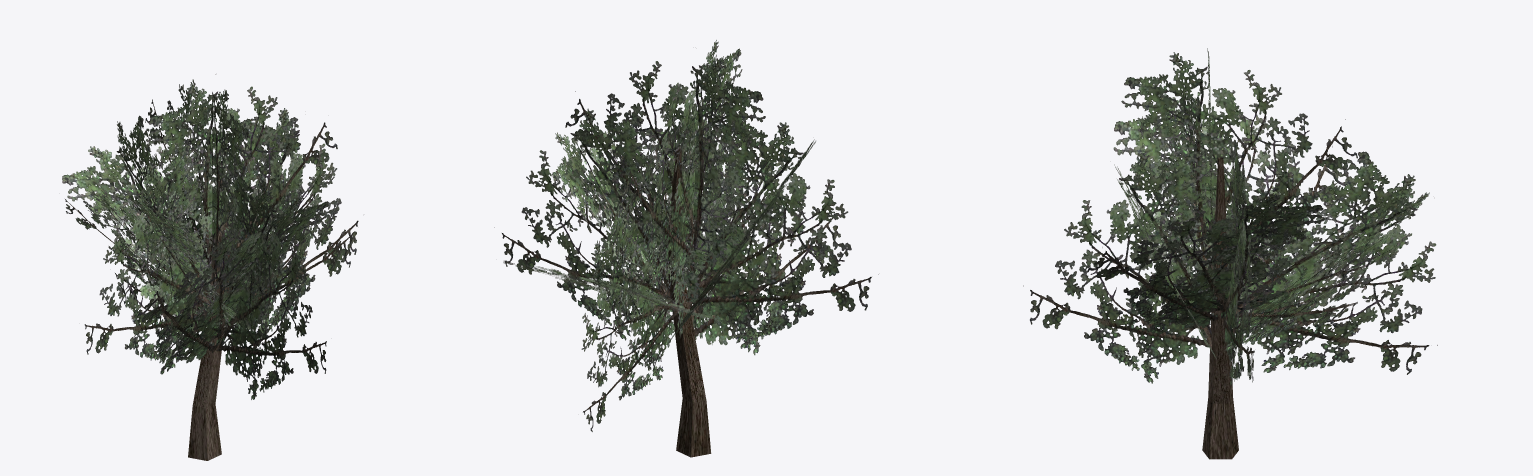
The model's file is mtns_shrb_greenleaf_a1_l0.fbx.
The picture shows the model from 3 angles, left to right: view 1: azimuth 30°, elevation 25°; view 2: azimuth 150°, elevation 25°; view 3: azimuth 270°, elevation 25°; orthographic projection. The views are drawn at different scales.
Visible parts, largest first — view 1: mesh_node; view 2: mesh_node; view 3: mesh_node.
Boxes of the visible parts, x1,y1,x2,y2 form: mesh_node: (62,74,358,460); mesh_node: (494,40,878,457); mesh_node: (1023,48,1437,459).
Bounding box in the file's own units: 2.78 × 2.41 × 2.93.
